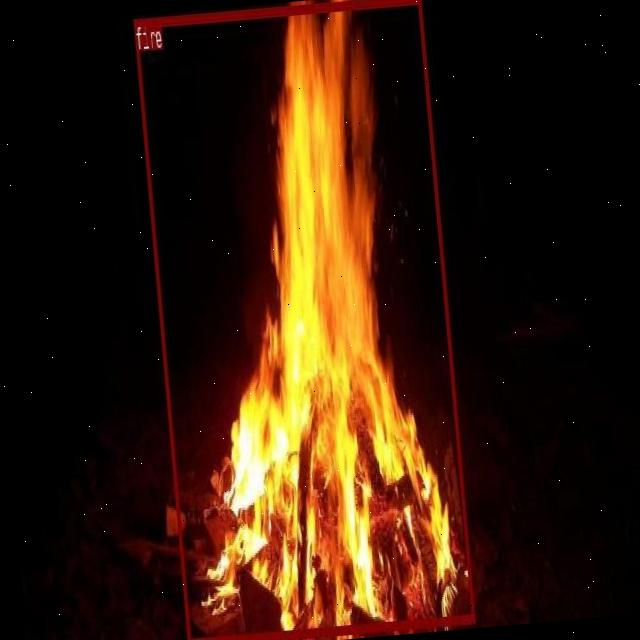fire: (133, 0, 474, 640)
